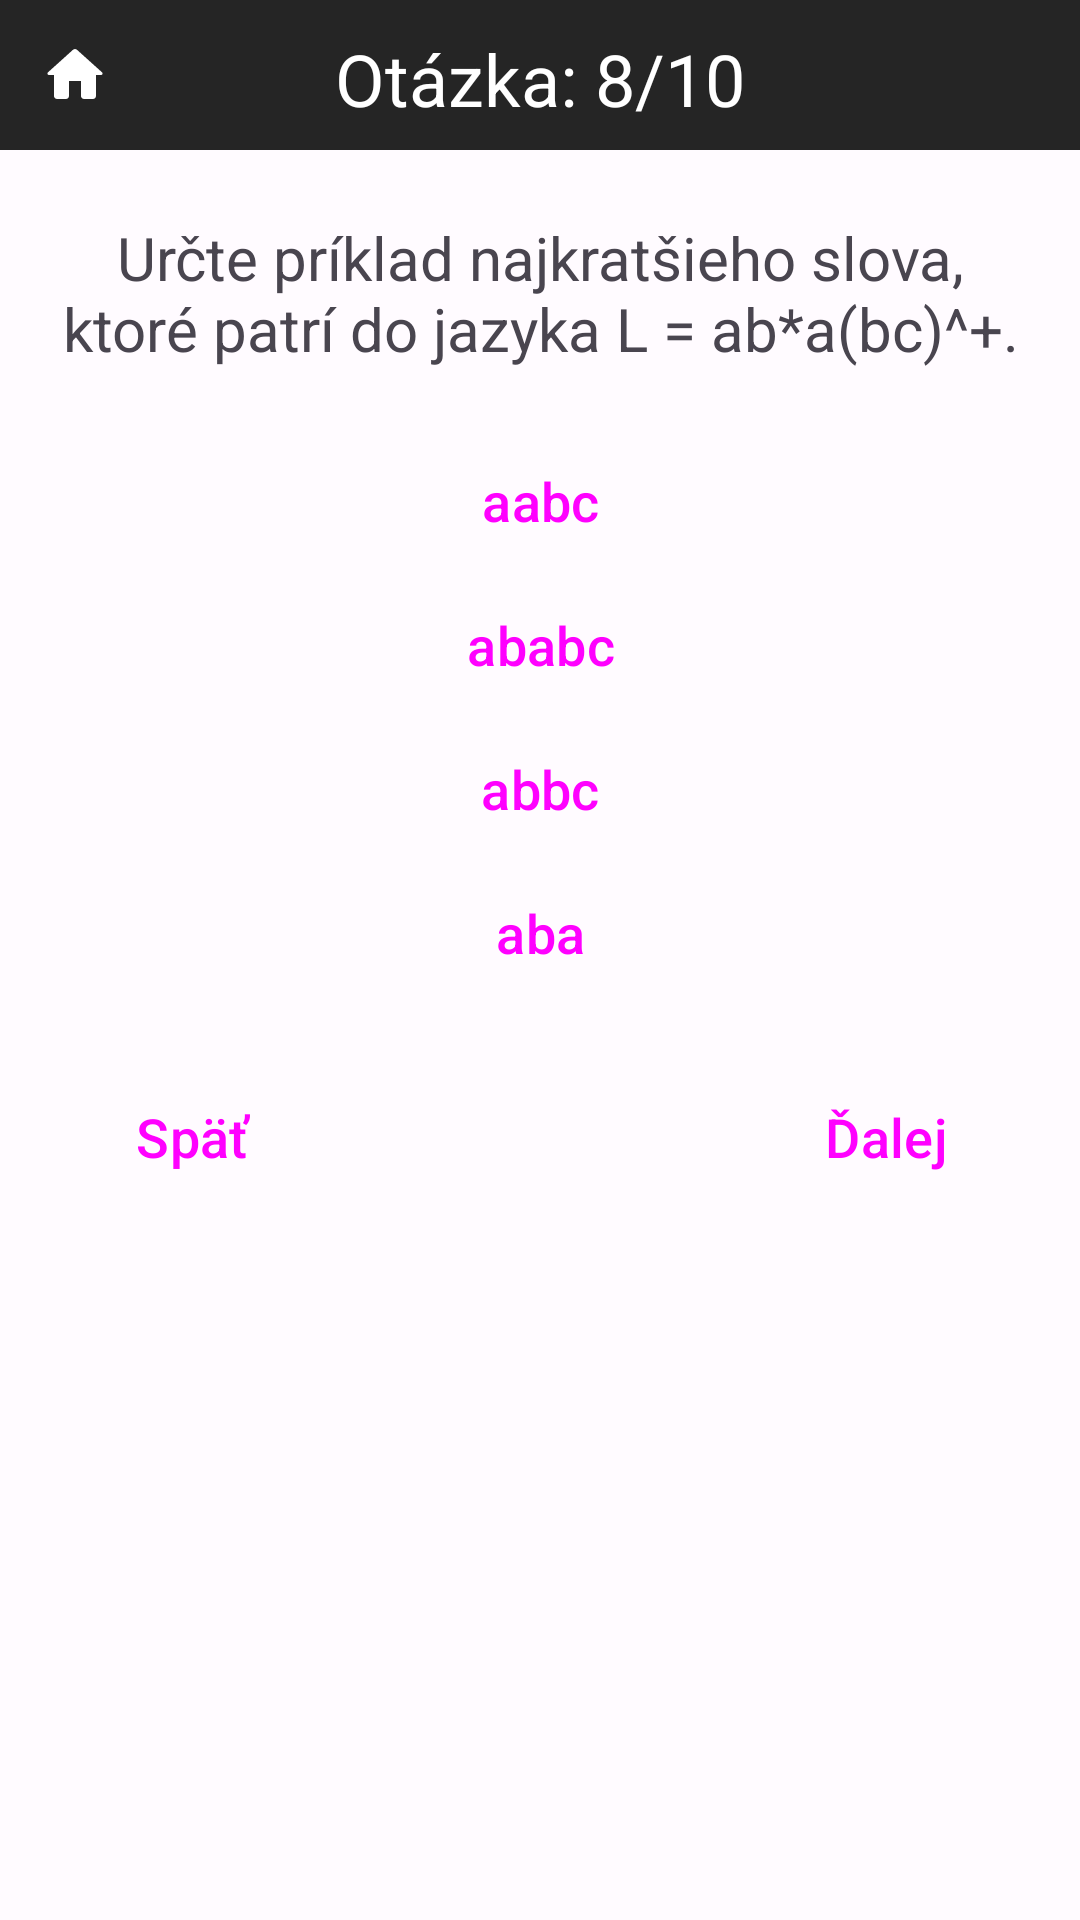

Where to tap for icons on this 1080x1920 app screen, as (x=x, y=y):
domov: (x=75, y=74)
